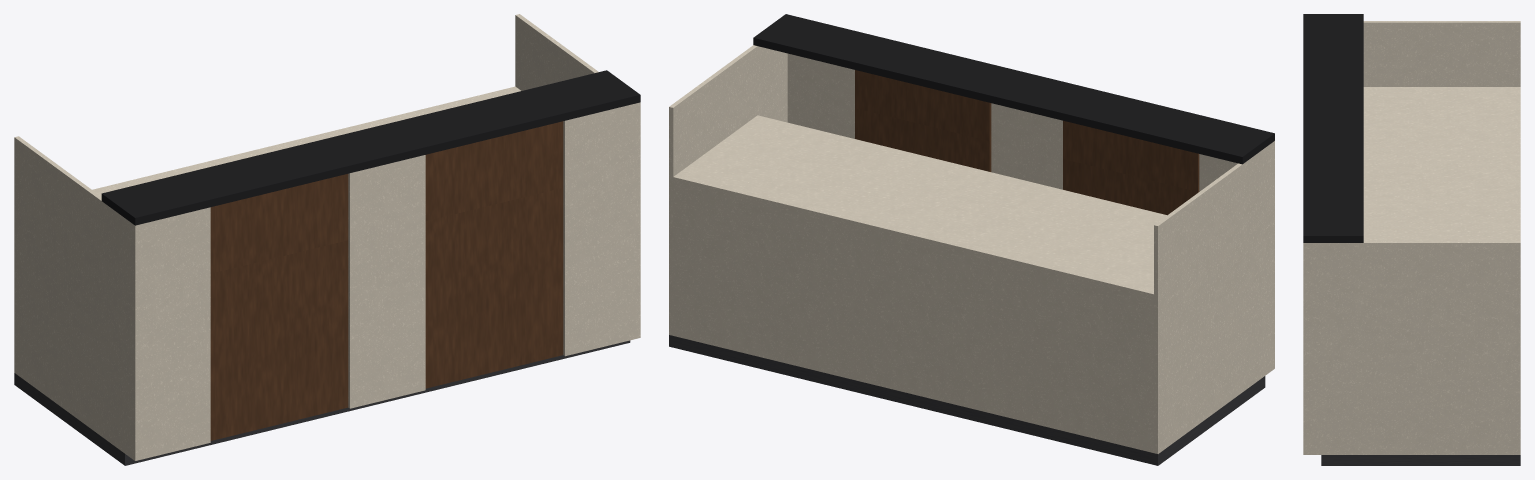
File: 26-ac-149-r0-reception-desk-option-01.glb
3 renders of one model, left to right at view 1: azimuth 30°, elevation 25°; view 2: azimuth 150°, elevation 25°; view 3: azimuth 270°, elevation 25°, orthographic. The views are drawn at different scales.
Visible parts, largest first — view 1: Reception Desk Option 01; view 2: Reception Desk Option 01; view 3: Reception Desk Option 01.
Boxes of the visible parts, box(x1,y1,x2,y2) form: Reception Desk Option 01: box(14, 14, 640, 465); Reception Desk Option 01: box(669, 14, 1274, 465); Reception Desk Option 01: box(1303, 14, 1520, 465).
Bounding box in the file's own units: 2.21 × 1.07 × 0.9144.
Materials: 5 (5 with a texture image).
